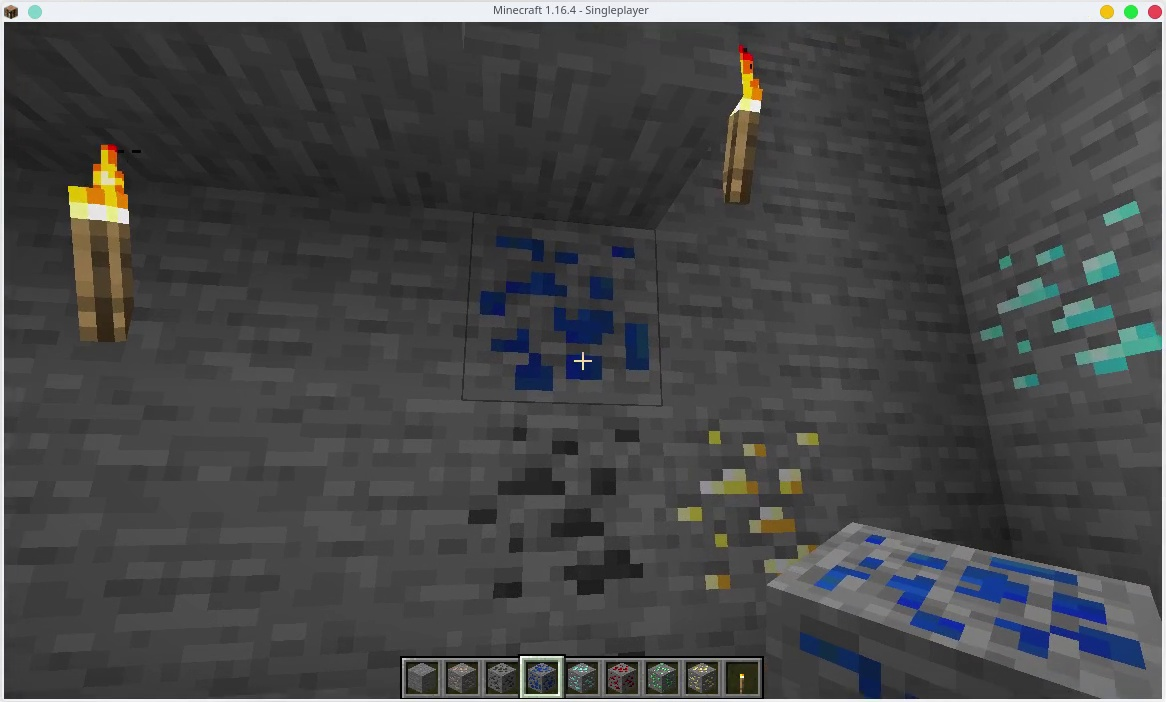gold: (668, 429, 818, 554), (687, 661, 718, 692)
